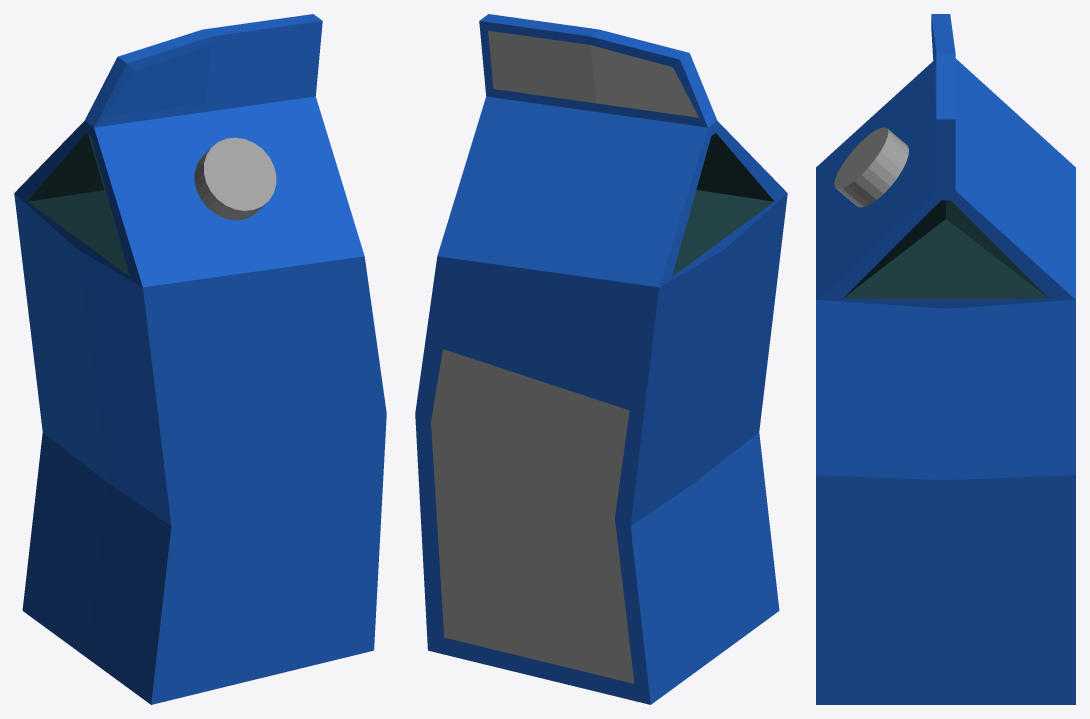
Rendered from CartonBig.fbx.
The picture shows the model from 3 angles, left to right: view 1: azimuth 30°, elevation 25°; view 2: azimuth 150°, elevation 25°; view 3: azimuth 270°, elevation 25°; orthographic projection.
Parts seen in each view (by area): view 1: CartonBig; view 2: CartonBig; view 3: CartonBig.
Boxes of the visible parts, left/top/right/bottom form: CartonBig: left=14, top=14, right=386, bottom=704; CartonBig: left=415, top=14, right=787, bottom=704; CartonBig: left=816, top=14, right=1075, bottom=704.
Size of the model in its own units: 110 by 100 by 255.
